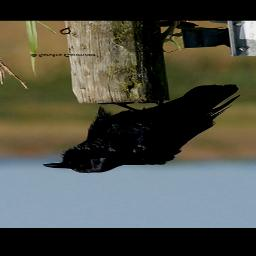Crow: (42, 83, 243, 174)
